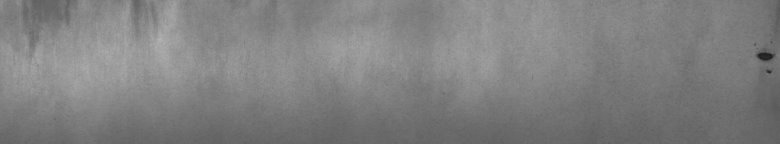fi: (751, 41, 776, 79)
